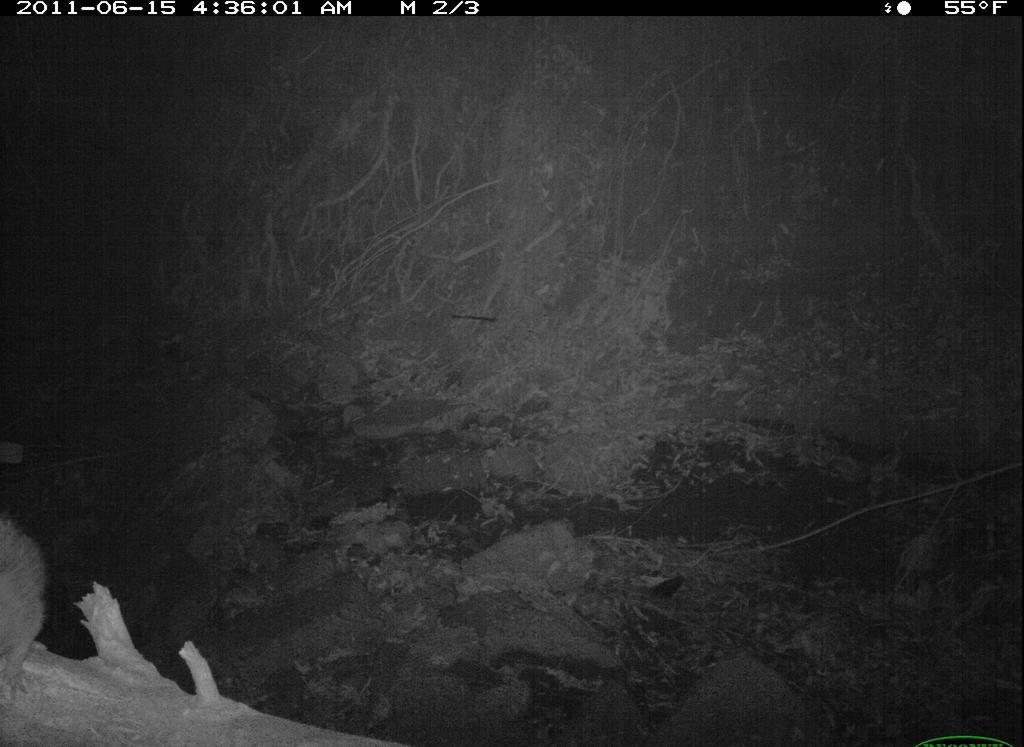opossum: (2, 474, 73, 706)
